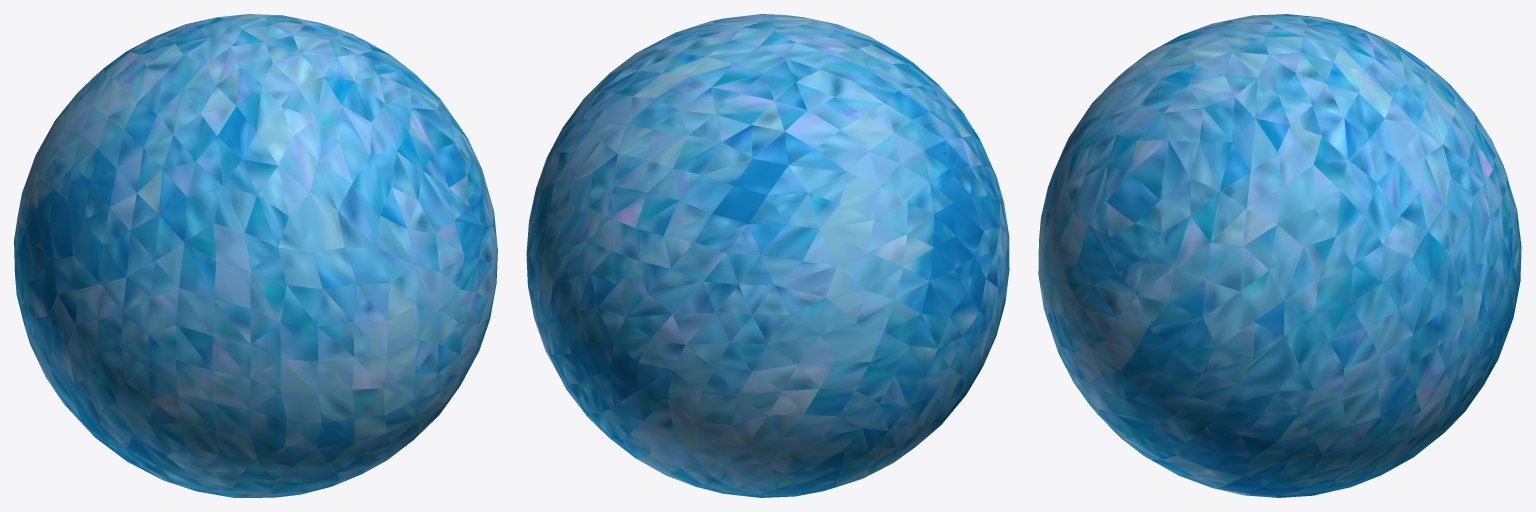
Rendered from water5.obj.
The picture shows the model from 3 angles, left to right: view 1: azimuth 30°, elevation 25°; view 2: azimuth 150°, elevation 25°; view 3: azimuth 270°, elevation 25°; orthographic projection.
Visible parts, largest first — view 1: Sphere001; view 2: Sphere001; view 3: Sphere001.
Boxes of the visible parts, box(x1,y1,x2,y2) form: Sphere001: box(14, 14, 497, 497); Sphere001: box(526, 14, 1009, 497); Sphere001: box(1038, 14, 1521, 497).
Size of the model in its own units: 0.00373 by 0.00373 by 0.00373.
Materials: 1 (1 with a texture image).
